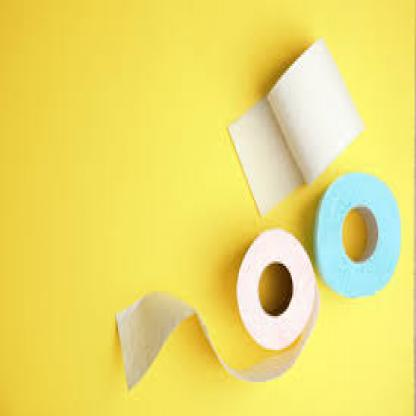tissue: (270, 43, 357, 168), (316, 175, 402, 300), (234, 227, 311, 358)
